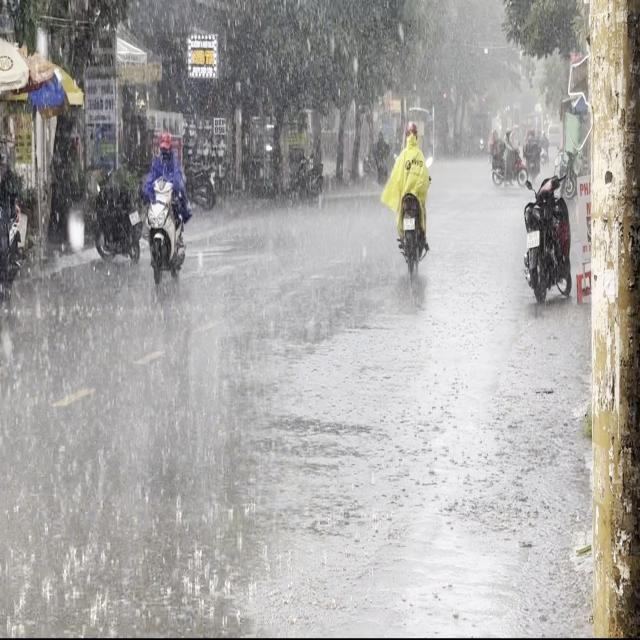helmet: (157, 129, 171, 156)
licenseplate: (138, 128, 190, 288)
